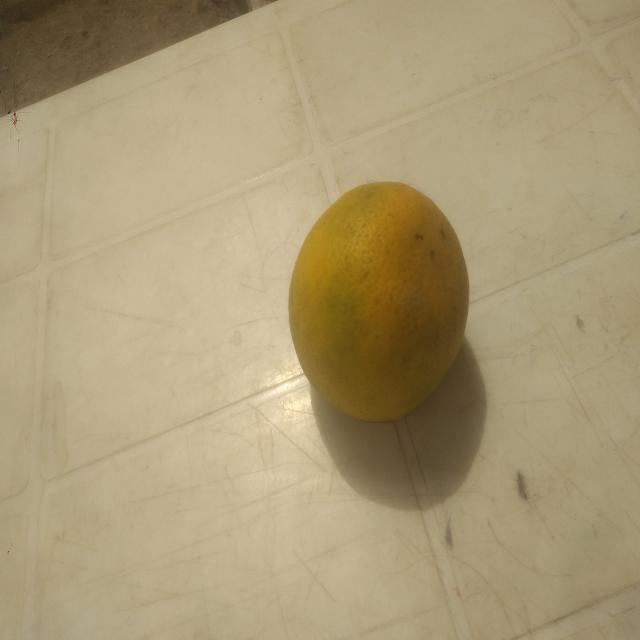Ripe orange: (277, 166, 485, 464)
